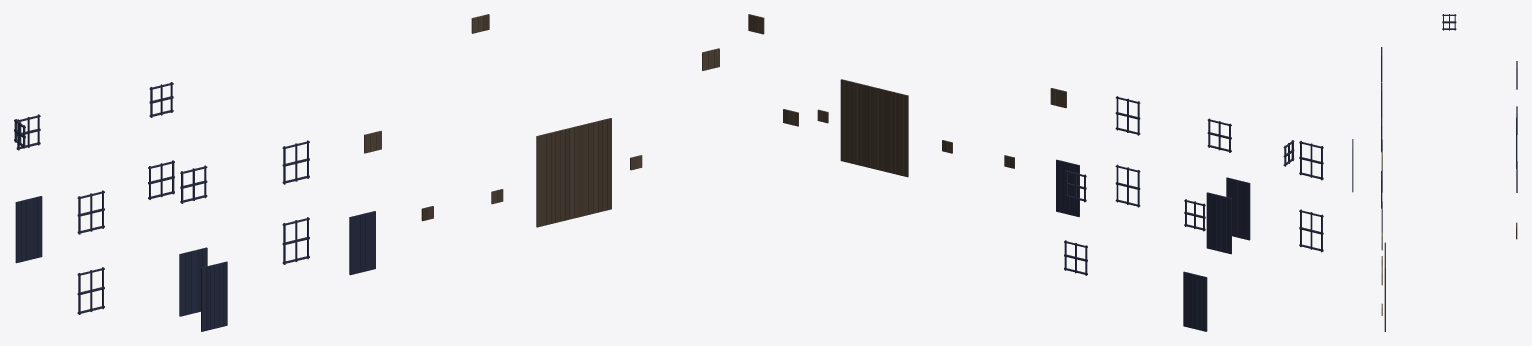
The model's file is SM_Bld_226_Wood.glb.
3 views of the same model, side by side, from view 1: azimuth 30°, elevation 25°; view 2: azimuth 150°, elevation 25°; view 3: azimuth 270°, elevation 25° (orthographic). The views are drawn at different scales.
Parts seen in each view (by area): view 1: SM_Bld_226_Wood; view 2: SM_Bld_226_Wood; view 3: SM_Bld_226_Wood.
Part boxes in pixels (x1,y1,x2,y2): SM_Bld_226_Wood: (14, 14, 719, 331); SM_Bld_226_Wood: (748, 14, 1323, 331); SM_Bld_226_Wood: (1352, 14, 1517, 331).
Size of the model in its own units: 22.55 by 6.15 by 7.06.
